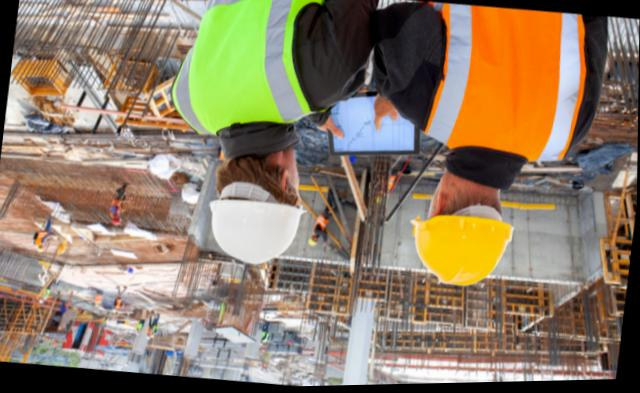helmet: (404, 212, 516, 292), (203, 194, 306, 268), (374, 196, 385, 204), (308, 238, 317, 247), (36, 245, 44, 252), (114, 220, 121, 225), (113, 307, 119, 312)
vest: (400, 0, 598, 165), (169, 0, 340, 145), (313, 215, 332, 237), (108, 199, 126, 219), (378, 174, 395, 195), (33, 232, 48, 245), (115, 297, 123, 309), (42, 287, 50, 299)
